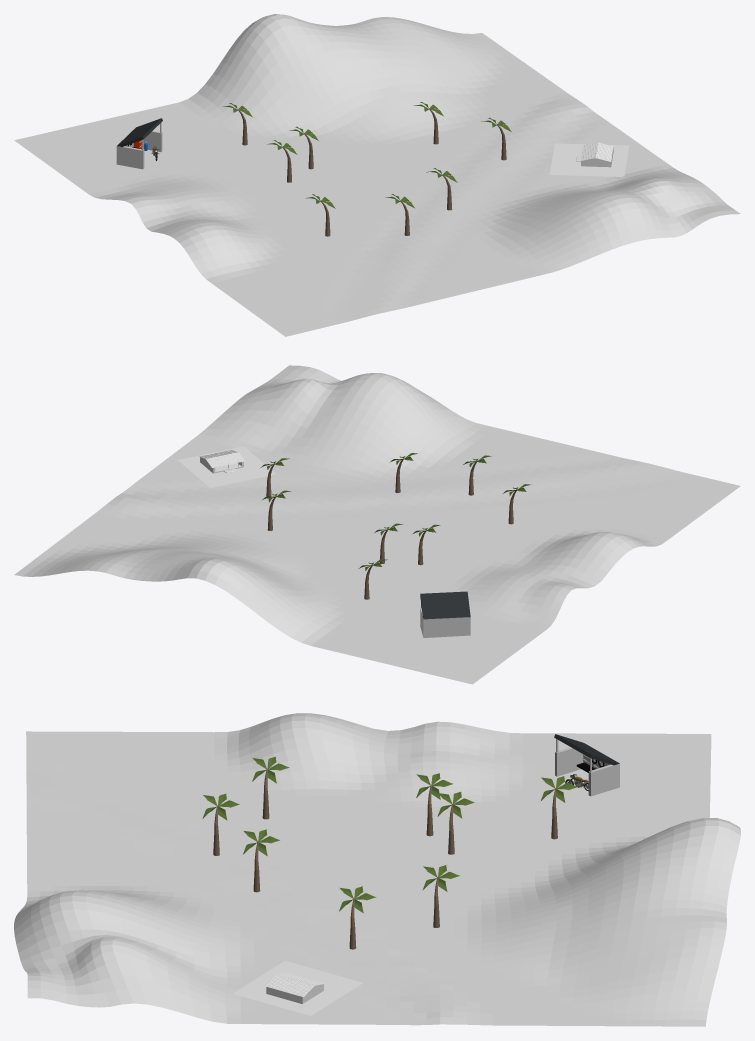
File: Map.fbx
3 renders of one model, top to bottom at view 1: azimuth 30°, elevation 25°; view 2: azimuth 150°, elevation 25°; view 3: azimuth 270°, elevation 25°, orthographic. The views are drawn at different scales.
Visible parts, largest first — view 1: Plane, Cube.009, Cube.002; view 2: Plane, Cube.009, Cube.003, Cube; view 3: Plane, Cube.009, Cube.001, Plane.002, Plane.008, Cube.002, Plane.010, Plane.009, Plane.001, Plane.006, Plane.007, Plane.003 (+1 smaller).
Boxes of the visible parts, box(x1,y1,x2,y2) form: Plane: box(14, 14, 740, 336); Cube.009: box(549, 142, 629, 176); Cube.002: box(116, 146, 144, 169); Plane: box(14, 365, 740, 684); Cube.009: box(178, 447, 275, 487); Cube.003: box(420, 591, 470, 619); Cube: box(423, 617, 470, 637); Plane: box(14, 713, 740, 1026); Cube.009: box(234, 960, 362, 1015); Cube.001: box(588, 763, 619, 796); Plane.002: box(416, 773, 453, 836); Plane.008: box(339, 886, 376, 949); Cube.002: box(555, 747, 583, 776); Plane.010: box(243, 829, 279, 892); Plane.009: box(540, 776, 577, 839); Plane.001: box(422, 865, 459, 927); Plane.006: box(437, 791, 474, 854); Plane.007: box(252, 756, 289, 819); Plane.003: box(202, 793, 239, 855).
Bounding box in the file's own units: 171 × 21.96 × 183.
